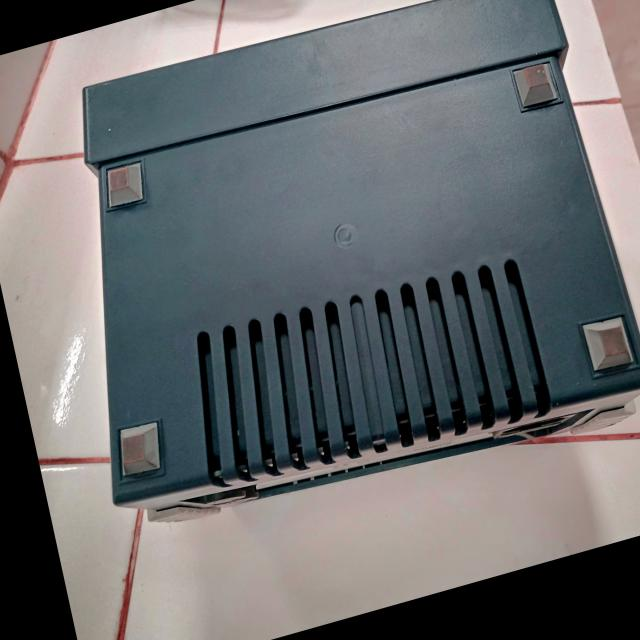Cobra 4 Xpert link Power Supply: (19, 0, 640, 565)
